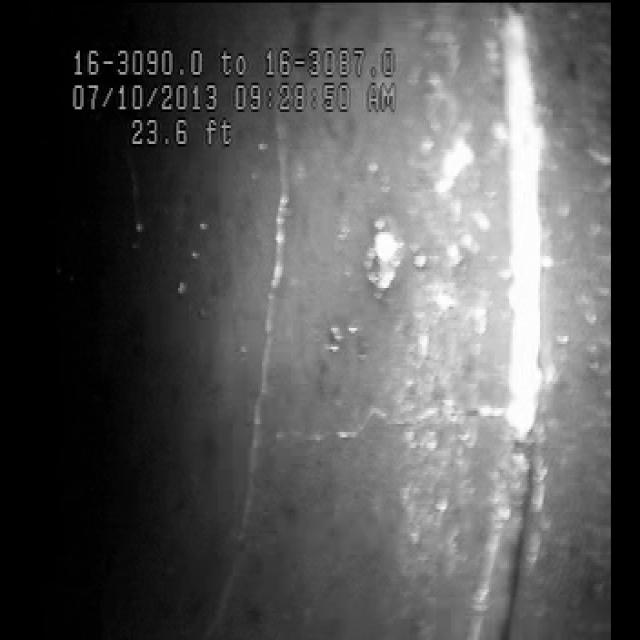Crack: (282, 351, 506, 477)
